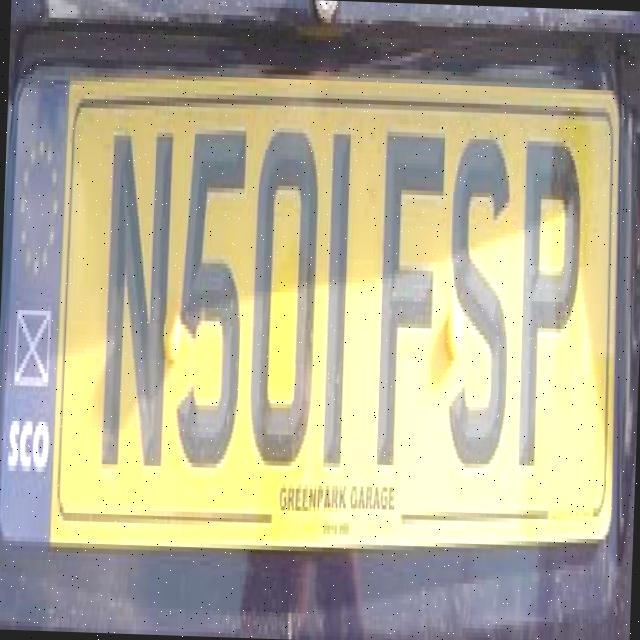Autre: (0, 52, 631, 560)
